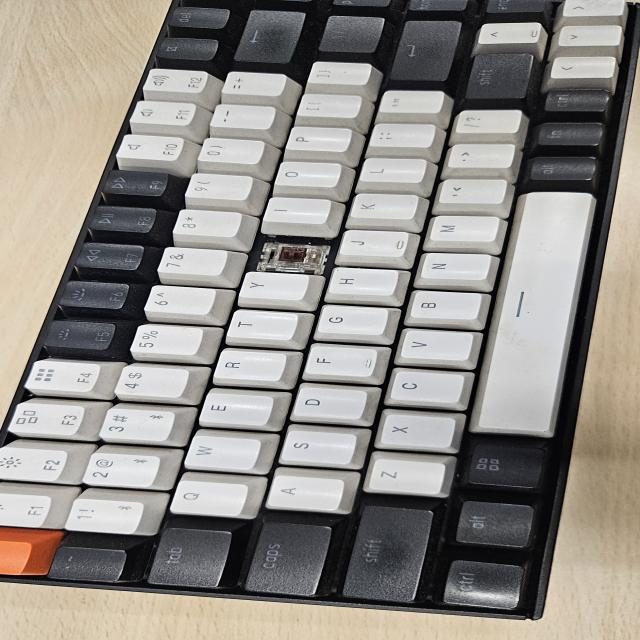C: (260, 240, 324, 267)
